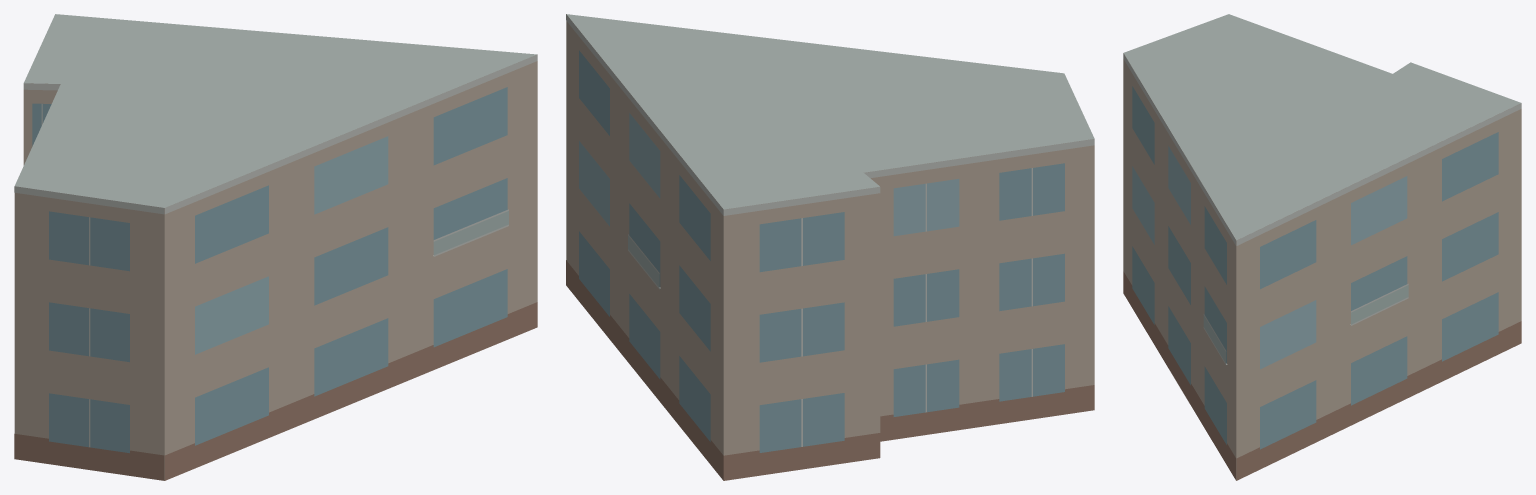
File: survey-upis-32704223.glb
3 views of the same model, side by side, from view 1: azimuth 30°, elevation 25°; view 2: azimuth 150°, elevation 25°; view 3: azimuth 270°, elevation 25° (orthographic). The views are drawn at different scales.
Parts seen in each view (by area): view 1: survey-upis-32704223.tmp; view 2: survey-upis-32704223.tmp; view 3: survey-upis-32704223.tmp.
Boxes of the visible parts, x1,y1,x2,y2 form: survey-upis-32704223.tmp: [14, 14, 537, 480]; survey-upis-32704223.tmp: [566, 14, 1094, 480]; survey-upis-32704223.tmp: [1123, 14, 1521, 480].
Size of the model in its own units: 20.73 by 10.25 by 15.4.
